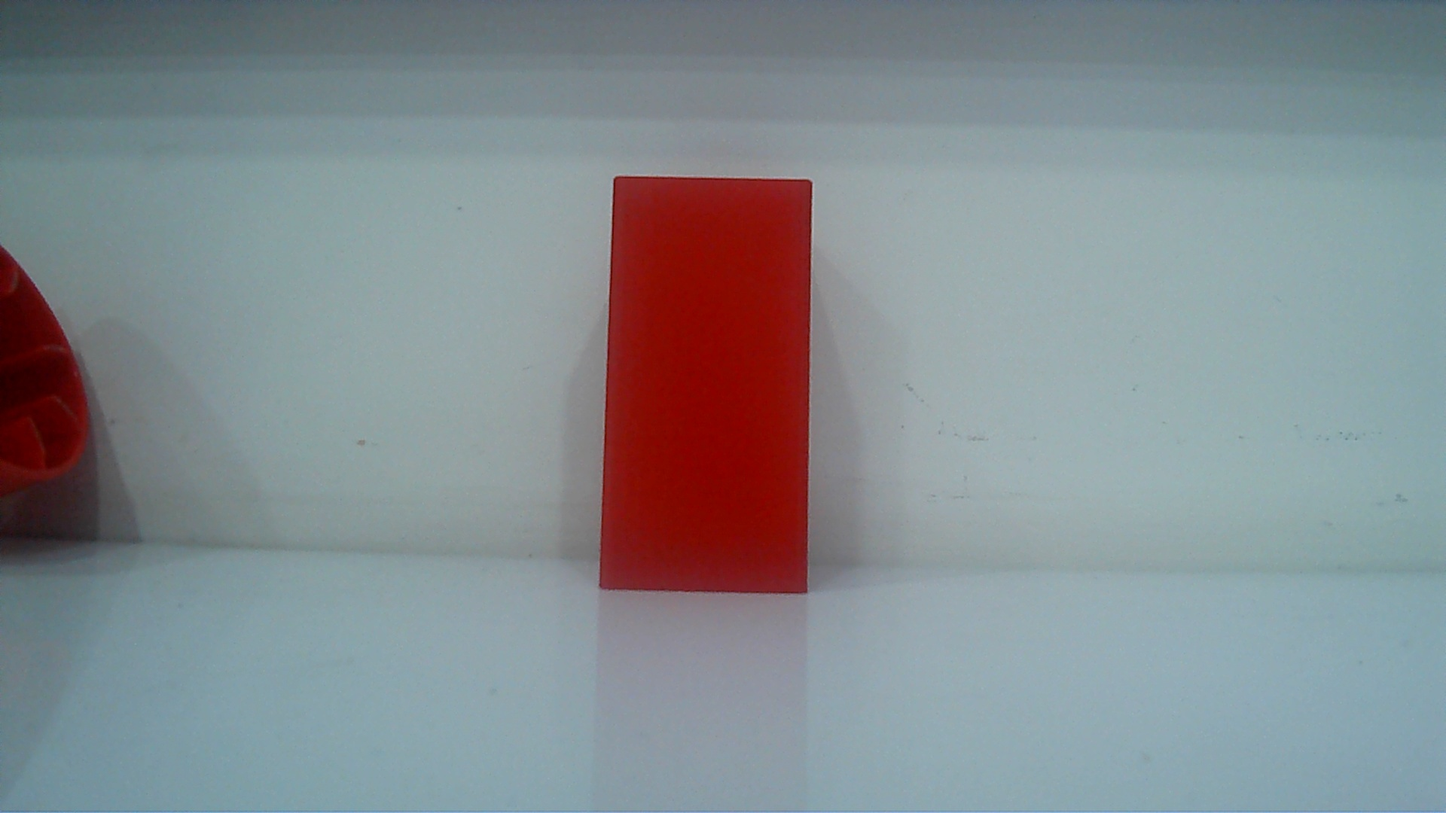red: (587, 162, 828, 617)
